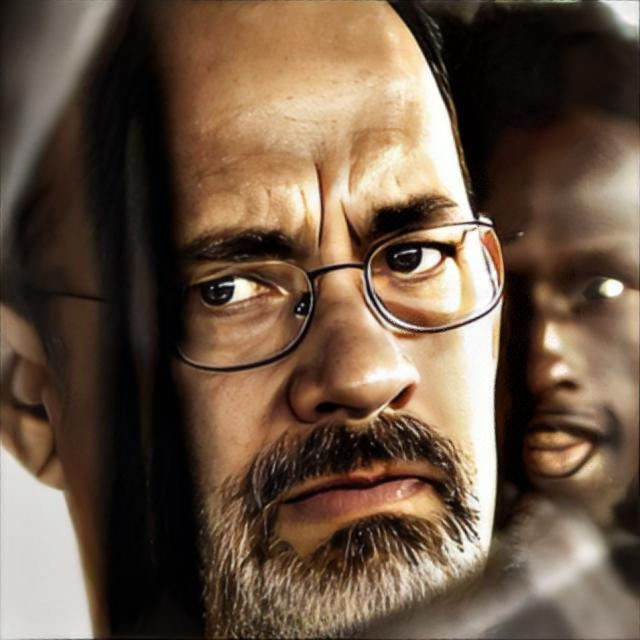anger: (175, 57, 508, 628)
